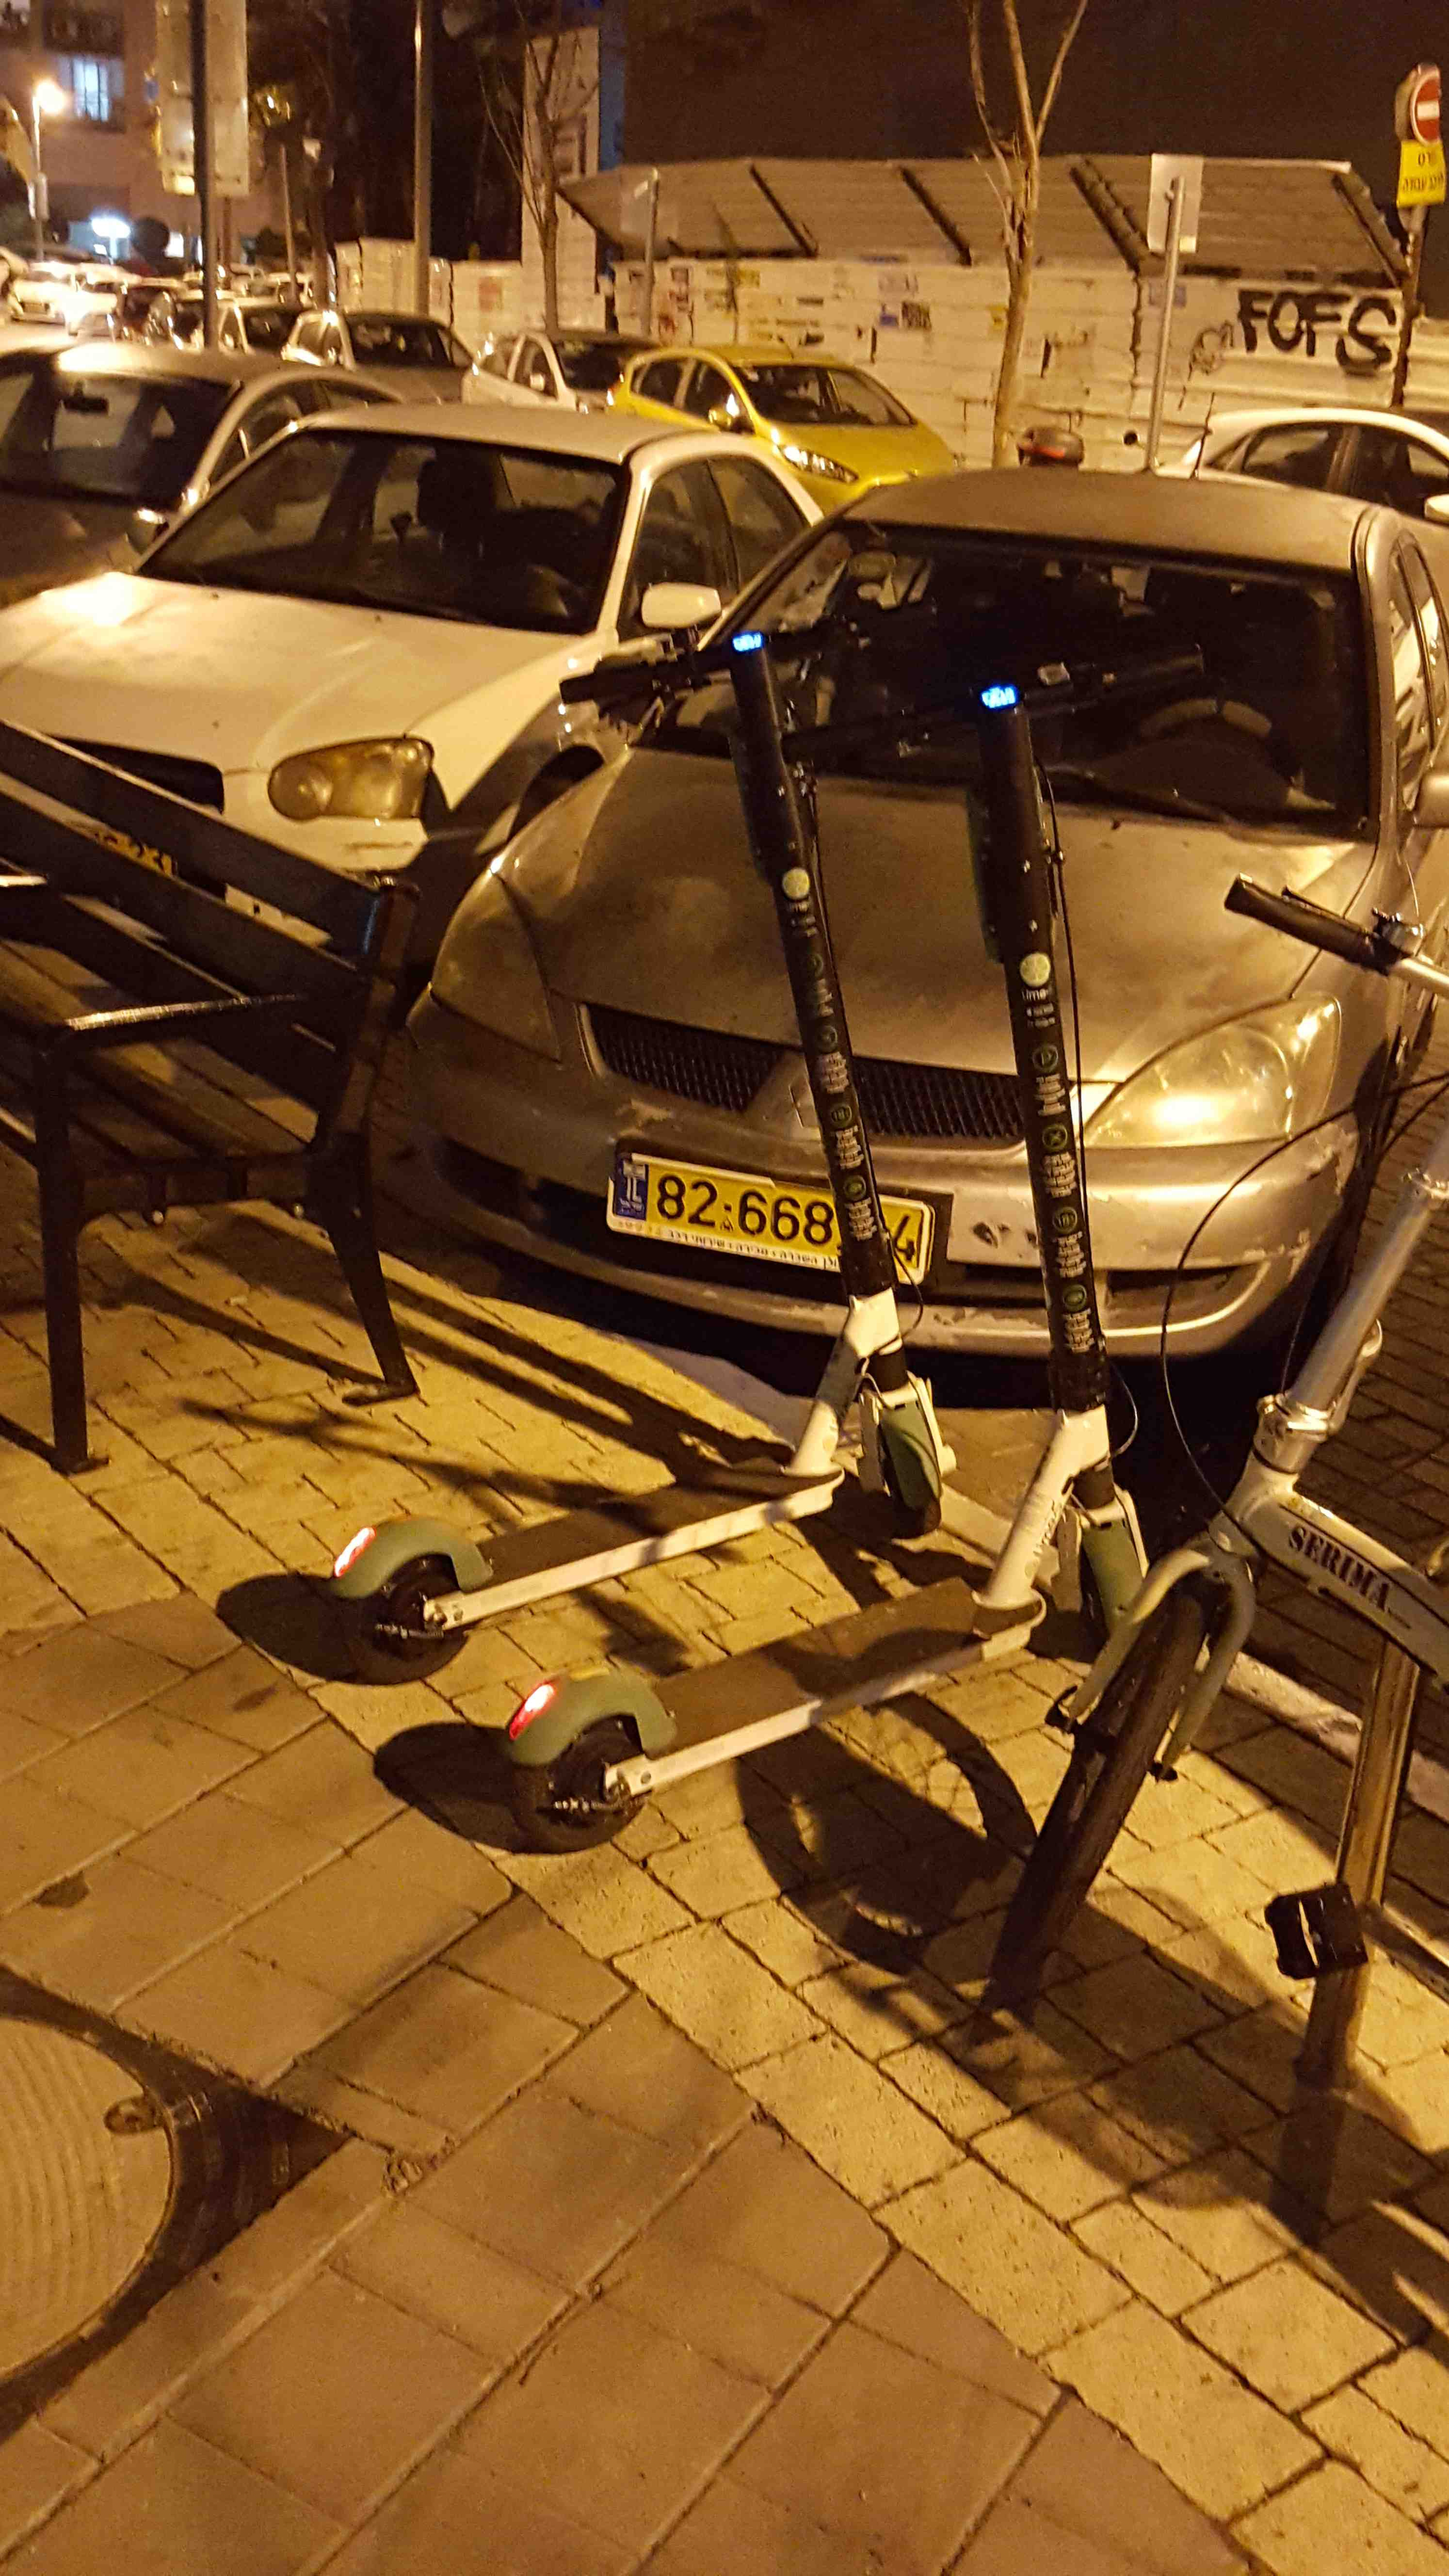too close: (1000, 1461, 1267, 1693), (777, 1368, 1031, 1568)
